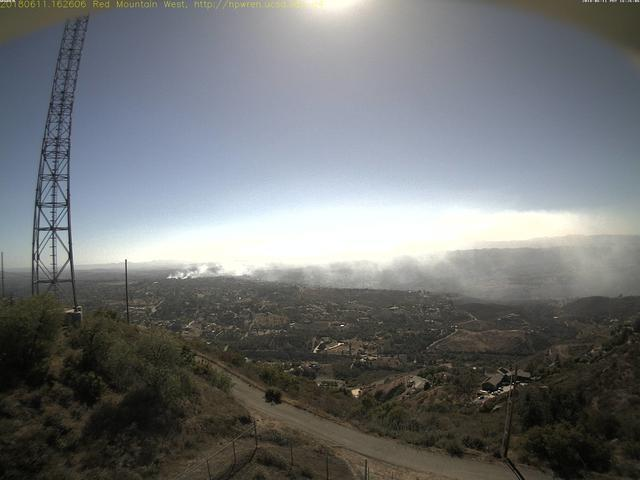wildfire: (162, 210, 635, 302)
